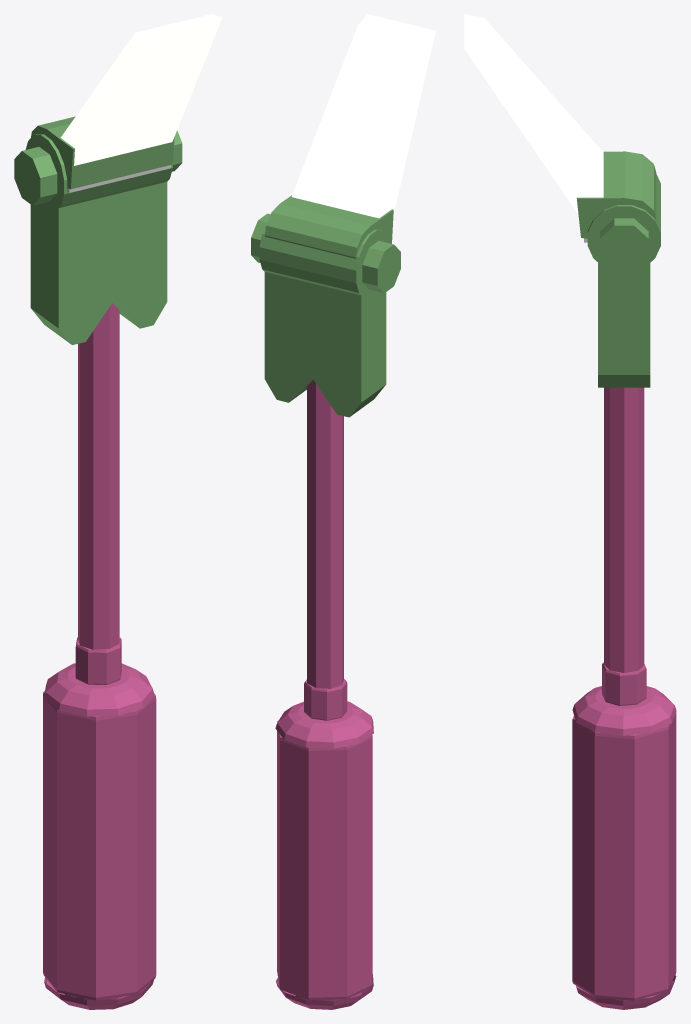
Rendered from Poste_MMX.fbx.
The picture shows the model from 3 angles, left to right: view 1: azimuth 30°, elevation 25°; view 2: azimuth 150°, elevation 25°; view 3: azimuth 270°, elevation 25°; orthographic projection. The views are drawn at different scales.
Parts seen in each view (by area): view 1: Cylinder, Cube, Cylinder.002, Cube.003, Torus.001, Cylinder.004, Cylinder.001, Torus.002; view 2: Cylinder, Cube, Cube.003, Cylinder.002, Torus.001, Cylinder.004, Cylinder.001, Torus.002; view 3: Cylinder, Cube, Cylinder.002, Cube.003, Torus.001, Cylinder.004, Cylinder.001, Torus.002.
Part boxes in pixels (x1,y1,x2,y2): Cylinder: (43, 691, 156, 1000); Cube: (25, 116, 174, 344); Cylinder.002: (78, 303, 119, 649); Cube.003: (60, 14, 222, 165); Torus.001: (44, 663, 154, 716); Cylinder.004: (14, 130, 182, 205); Cylinder.001: (75, 637, 121, 684); Torus.002: (44, 977, 153, 1009); Cylinder: (277, 721, 372, 1000); Cube: (259, 195, 393, 417); Cube.003: (291, 14, 435, 218); Cylinder.002: (307, 380, 343, 688); Torus.001: (275, 701, 373, 748); Cylinder.004: (251, 213, 400, 293); Cylinder.001: (304, 679, 347, 720); Torus.002: (276, 974, 373, 1009); Cylinder: (572, 712, 676, 1000); Cube: (576, 151, 660, 387); Cylinder.002: (604, 387, 644, 672); Cube.003: (464, 14, 603, 213); Torus.001: (572, 686, 676, 735); Cylinder.004: (600, 218, 648, 269); Cylinder.001: (602, 662, 646, 705); Torus.002: (576, 975, 676, 1009).
Size of the model in its own units: 295 by 2041 by 407.
